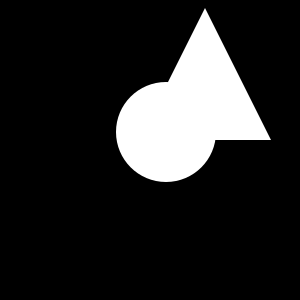rectangle: (116, 82, 216, 182)
triangle: (139, 8, 271, 140)
